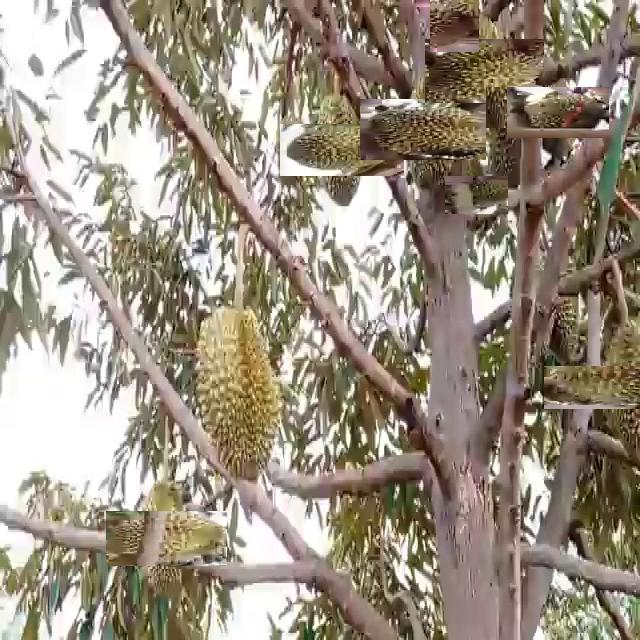durian: (194, 296, 285, 488), (380, 79, 481, 180), (438, 26, 530, 118), (122, 495, 211, 583), (298, 106, 386, 195), (569, 339, 640, 434), (519, 74, 597, 150), (486, 87, 534, 191), (428, 0, 480, 50), (451, 170, 502, 220)
